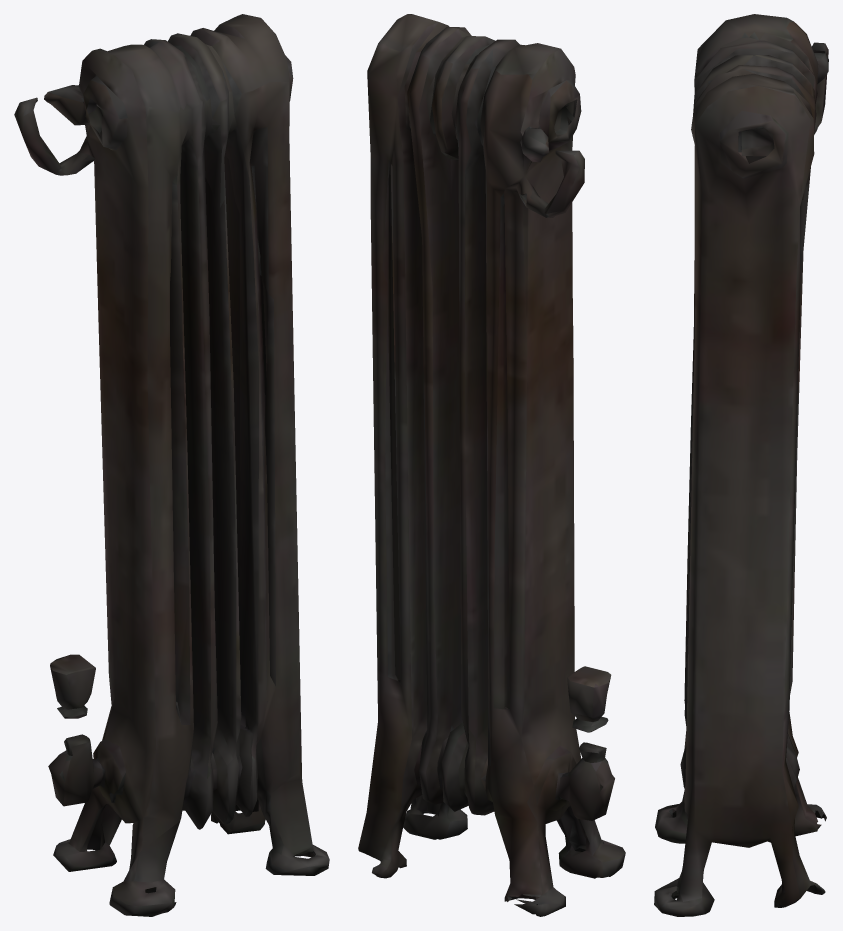
File: worn-iron-radiator-v001.glb
3 views of the same model, side by side, from view 1: azimuth 30°, elevation 25°; view 2: azimuth 150°, elevation 25°; view 3: azimuth 270°, elevation 25° (orthographic).
Visible parts, largest first — view 1: worn-iron-radiator; view 2: worn-iron-radiator; view 3: worn-iron-radiator.
Boxes of the visible parts, x1,y1,x2,y2 form: worn-iron-radiator: (14,14,329,916); worn-iron-radiator: (358,14,625,916); worn-iron-radiator: (654,14,828,916).
Bounding box in the file's own units: 0.2693 × 0.8797 × 0.1696.
Materials: 1 (1 with a texture image).
